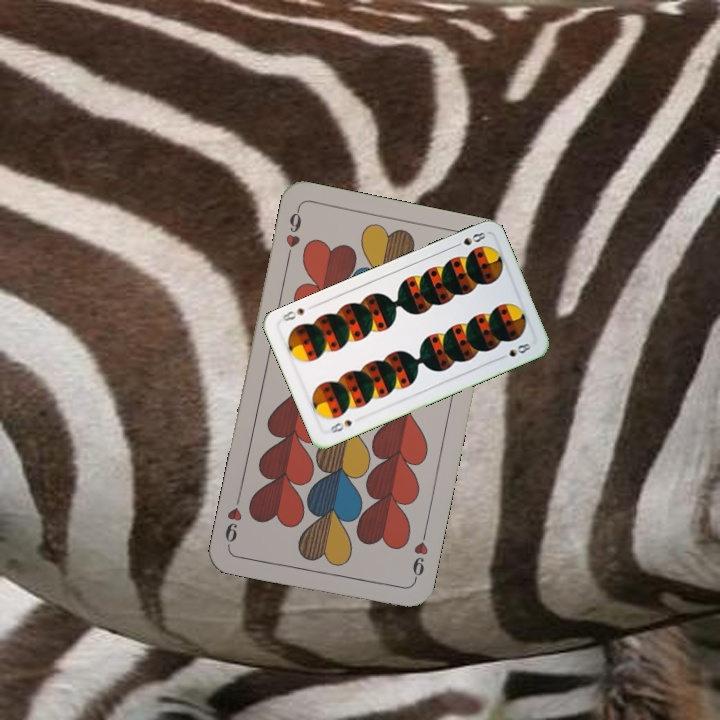H9: (281, 205, 304, 263), (408, 527, 431, 585)
S8: (449, 228, 488, 250), (326, 415, 355, 436)
